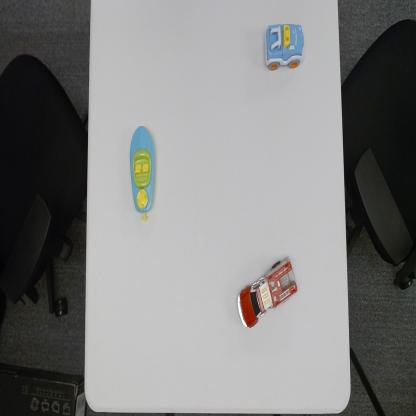Boat: (128, 124, 157, 224)
Car: (264, 20, 305, 72)
Firetruck: (236, 254, 298, 331)
